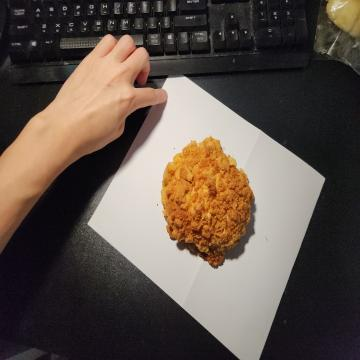soboru_bread: (163, 136, 254, 264)
